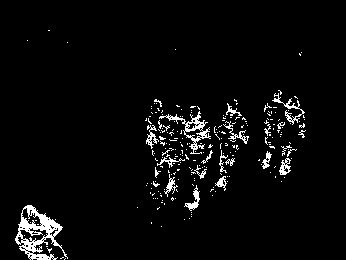person: (212, 99, 251, 193), (182, 103, 212, 210), (158, 103, 187, 196), (145, 98, 171, 199), (277, 95, 306, 178), (261, 88, 286, 173)
